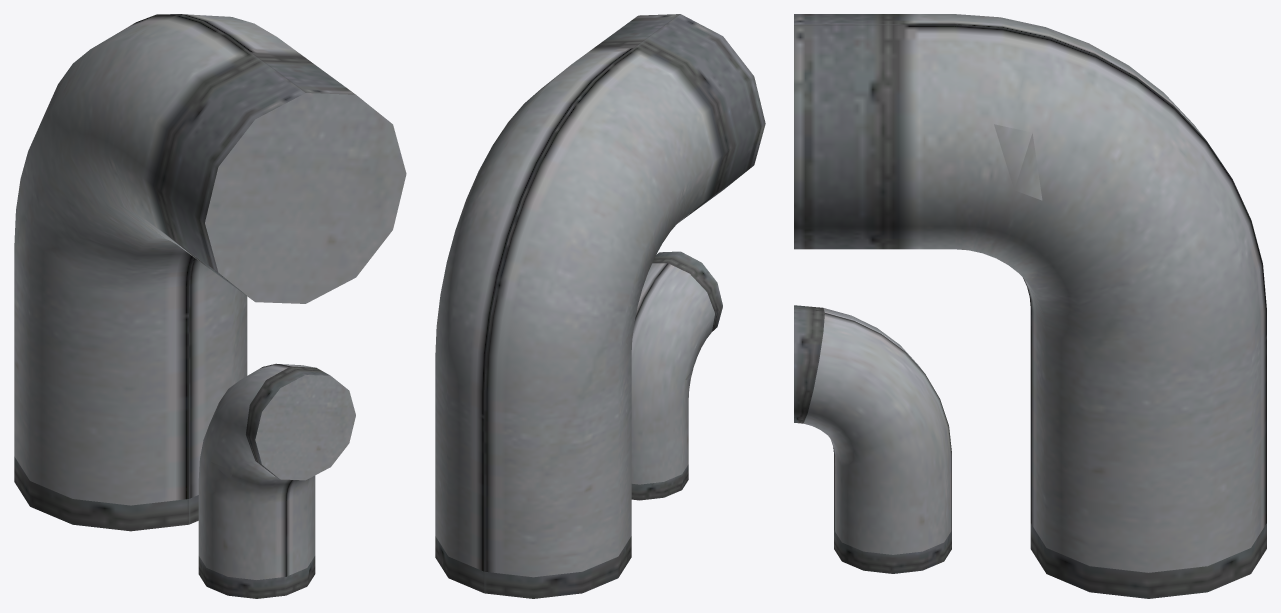
File: Pipe_End_01Pipe_End_01.FBX
The picture shows the model from 3 angles, left to right: view 1: azimuth 30°, elevation 25°; view 2: azimuth 150°, elevation 25°; view 3: azimuth 270°, elevation 25°; orthographic projection. The views are drawn at different scales.
Visible parts, largest first — view 1: Pipe_End_01Pipe_End_01; view 2: Pipe_End_01Pipe_End_01; view 3: Pipe_End_01Pipe_End_01.
Boxes of the visible parts, left/top/right/bottom form: Pipe_End_01Pipe_End_01: left=14, top=14, right=406, bottom=598; Pipe_End_01Pipe_End_01: left=435, top=14, right=765, bottom=598; Pipe_End_01Pipe_End_01: left=794, top=14, right=1266, bottom=598.
Size of the model in its own units: 0.4 by 0.98 by 0.8006.
